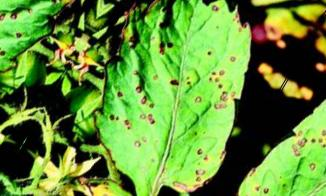Tomato leaf bacterial spot: (59, 0, 296, 196)
